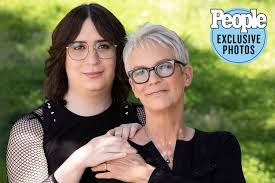person: (53, 3, 124, 92), (123, 25, 193, 112)
